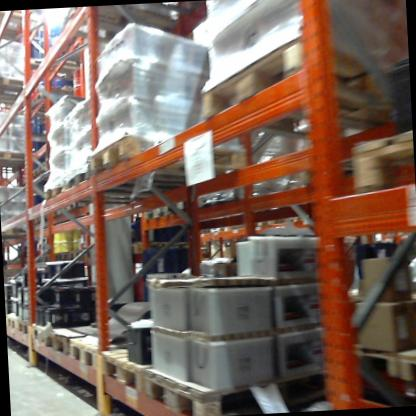pallet: (200, 32, 405, 147), (140, 347, 341, 416), (87, 125, 259, 195), (330, 108, 412, 200), (57, 3, 193, 50), (101, 338, 199, 401), (62, 156, 176, 208), (40, 176, 123, 222), (68, 333, 141, 377), (44, 325, 98, 366), (349, 335, 398, 378), (24, 51, 87, 83), (0, 10, 45, 45), (129, 234, 196, 257), (0, 143, 36, 172), (0, 72, 36, 100), (159, 195, 194, 220), (398, 334, 416, 380), (31, 321, 54, 352), (250, 211, 277, 232), (204, 221, 227, 244), (15, 319, 36, 343), (47, 245, 70, 266), (142, 203, 165, 223), (67, 248, 90, 262), (6, 315, 22, 334)
